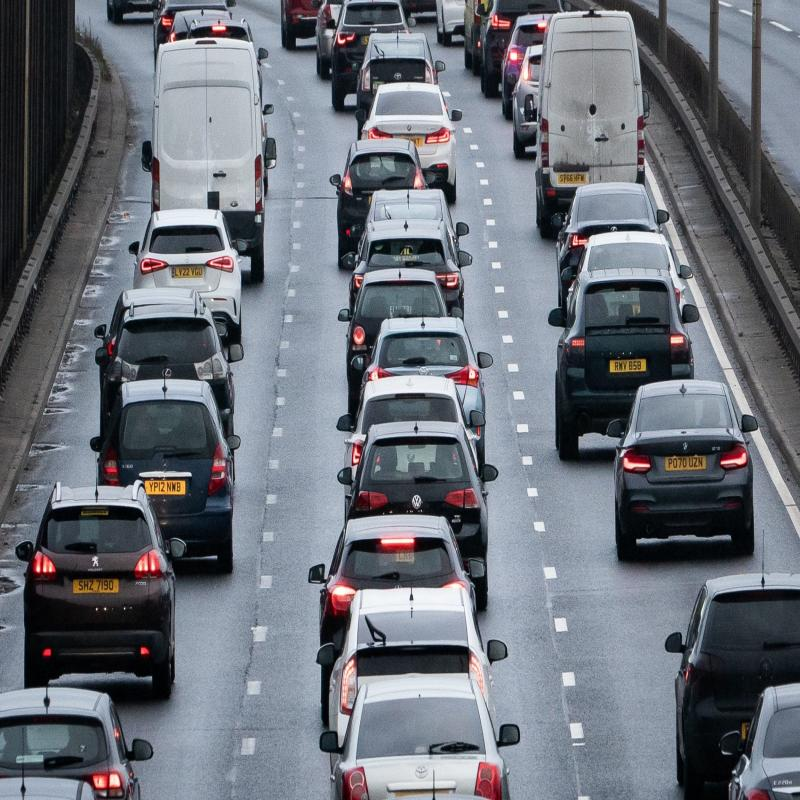car: (24, 475, 176, 737), (552, 274, 686, 462), (333, 586, 477, 754), (330, 509, 482, 666), (354, 415, 485, 596), (336, 672, 518, 800), (617, 379, 760, 520), (113, 268, 235, 433), (118, 384, 245, 530), (372, 308, 488, 450), (358, 376, 478, 479), (555, 166, 647, 297), (355, 216, 458, 316), (348, 275, 439, 387)
